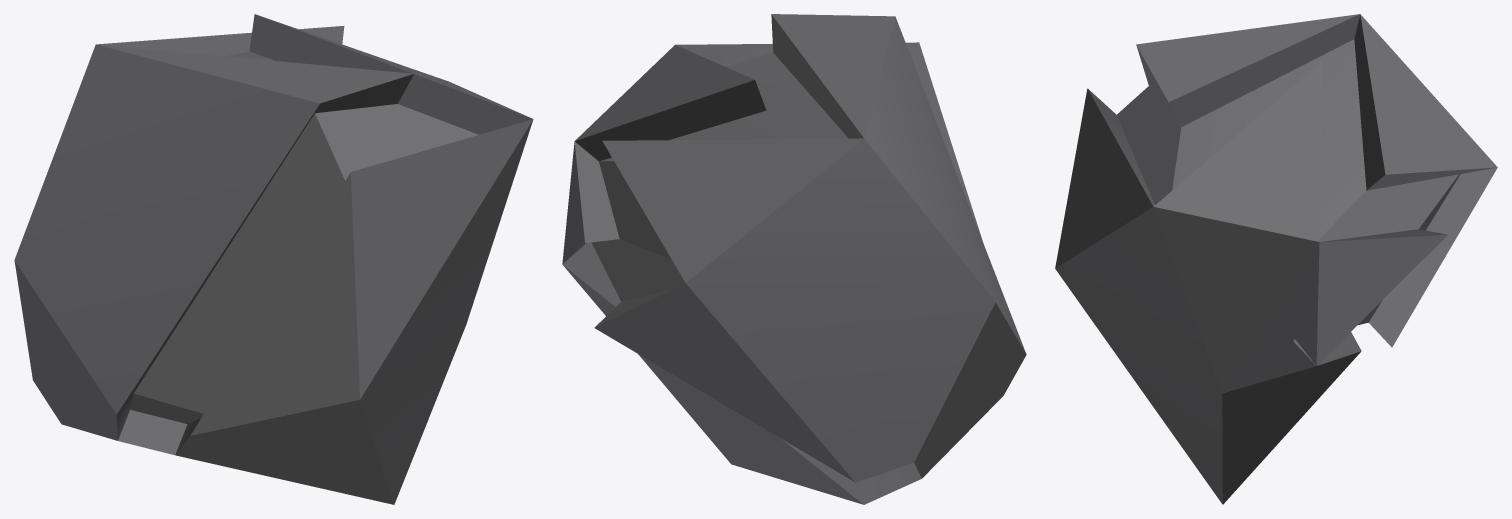
Rendered from Roca Rota AS.fbx.
3 views of the same model, side by side, from view 1: azimuth 30°, elevation 25°; view 2: azimuth 150°, elevation 25°; view 3: azimuth 270°, elevation 25° (orthographic). The views are drawn at different scales.
Visible parts, largest first — view 1: polySurface501; view 2: polySurface501; view 3: polySurface501.
Boxes of the visible parts, x1,y1,x2,y2 form: polySurface501: (14,14,533,504); polySurface501: (562,14,1026,504); polySurface501: (1055,14,1497,504).
Bounding box in the file's own units: 1.04 × 1.03 × 1.01.
